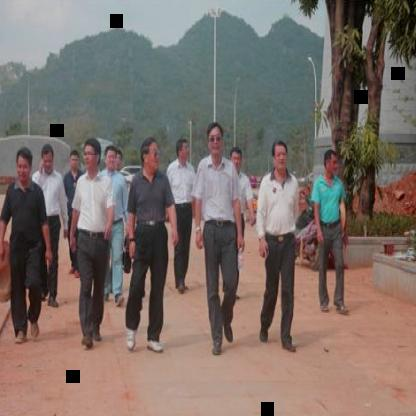head: (13, 144, 36, 186), (202, 123, 226, 163), (139, 136, 162, 176), (80, 135, 104, 172), (269, 136, 290, 178), (320, 146, 344, 178), (38, 140, 56, 174), (175, 134, 193, 167), (230, 145, 246, 176), (105, 143, 119, 172), (68, 144, 80, 173)
